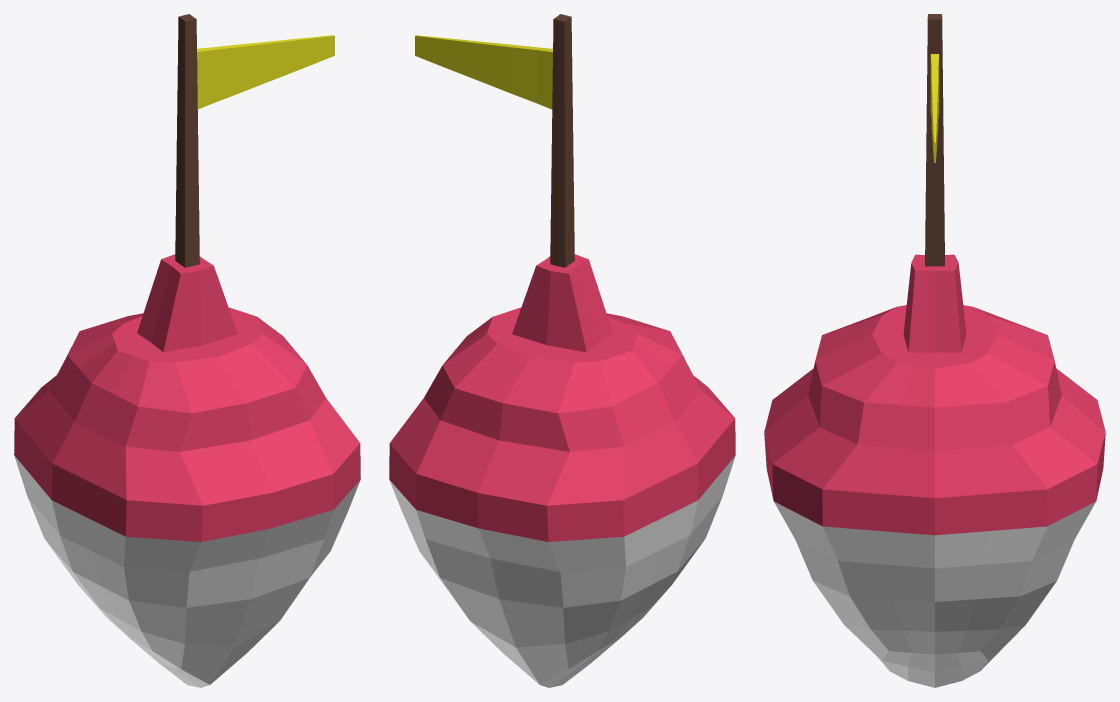
File: SM_Checkpoint.fbx
The picture shows the model from 3 angles, left to right: view 1: azimuth 30°, elevation 25°; view 2: azimuth 150°, elevation 25°; view 3: azimuth 270°, elevation 25°; orthographic projection.
Visible parts, largest first — view 1: Checkpoint, Flag; view 2: Checkpoint, Flag; view 3: Checkpoint, Flag.
Part boxes in pixels (x1,y1,x2,y2): Checkpoint: (14, 14, 360, 687); Flag: (197, 35, 334, 109); Checkpoint: (389, 14, 735, 687); Flag: (415, 35, 552, 109); Checkpoint: (764, 14, 1105, 687); Flag: (930, 54, 939, 162).
Size of the model in its own units: 203 by 457 by 211.
